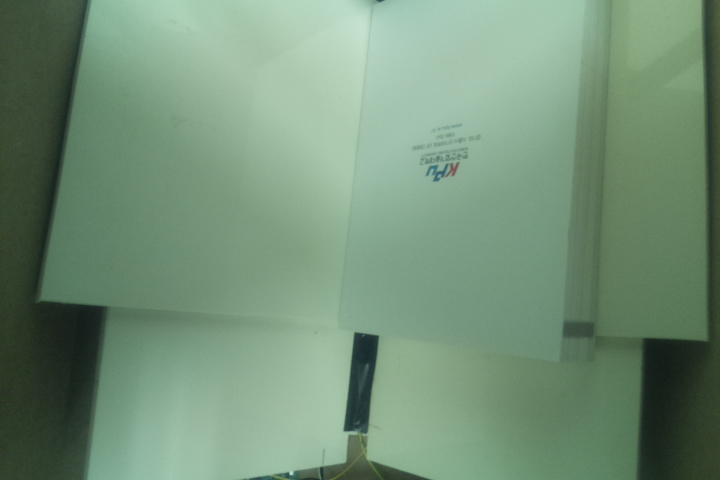book: (342, 1, 609, 366)
